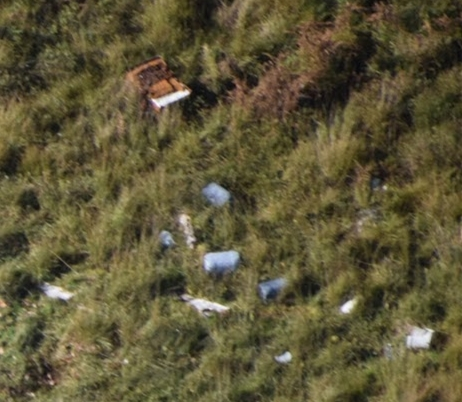cuboid: (118, 50, 199, 116)
scattered_barrel: (22, 169, 449, 370)
